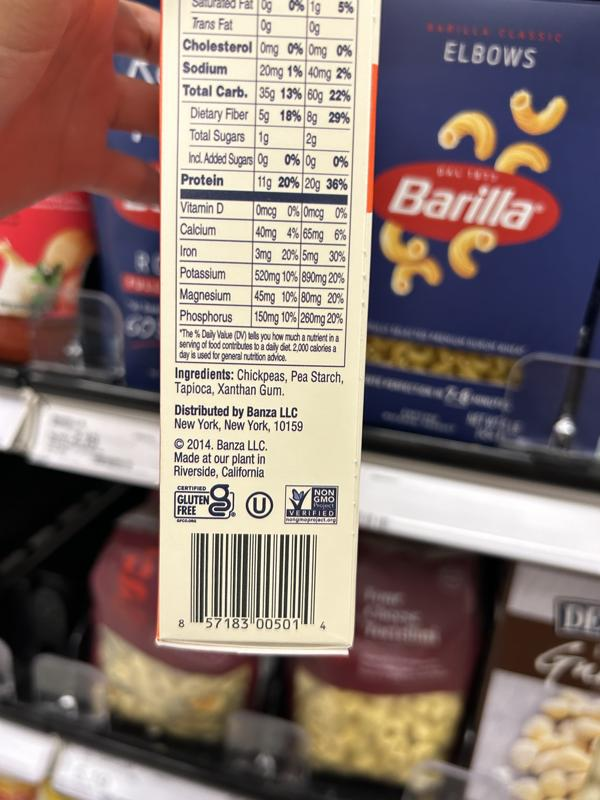ingredients: (171, 365, 346, 400)
